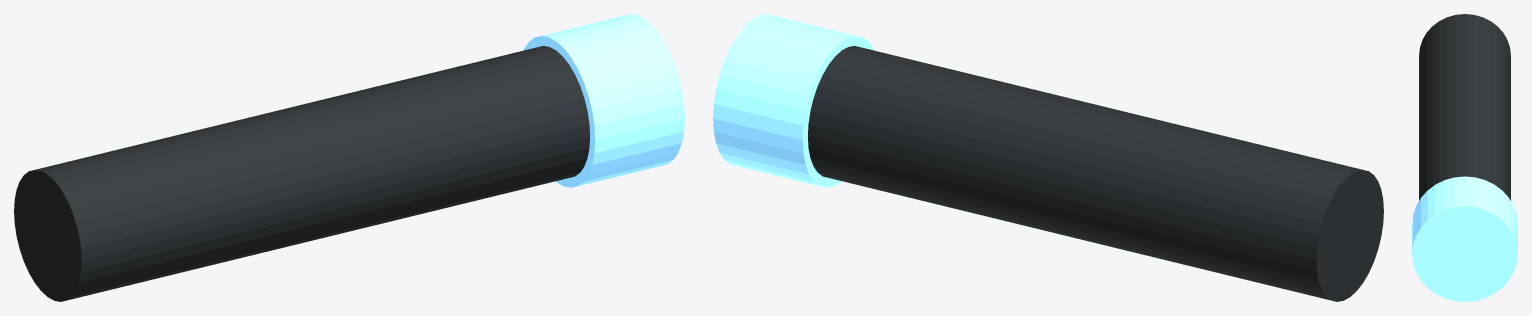
File: P006-blockout-v1.glb
3 renders of one model, left to right at view 1: azimuth 30°, elevation 25°; view 2: azimuth 150°, elevation 25°; view 3: azimuth 270°, elevation 25°, orthographic. The views are drawn at different scales.
Parts seen in each view (by area): view 1: 筒身, 燈頭; view 2: 筒身, 燈頭; view 3: 筒身, 燈頭.
Boxes of the visible parts, x1,y1,x2,y2 form: 筒身: (14,46,589,301); 燈頭: (523,14,684,187); 筒身: (808,46,1383,301); 燈頭: (713,14,874,187); 筒身: (1419,14,1510,200); 燈頭: (1412,176,1517,301).
Bounding box in the file's own units: 0.23 × 0.0517 × 0.0518.
